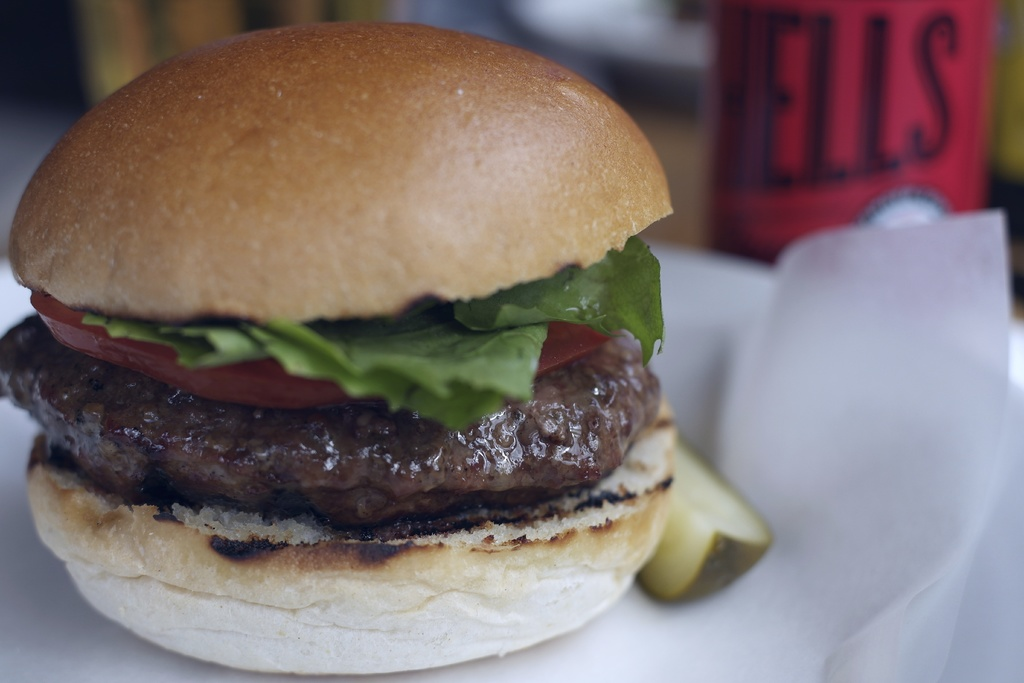Hamburger: (0, 23, 682, 678)
